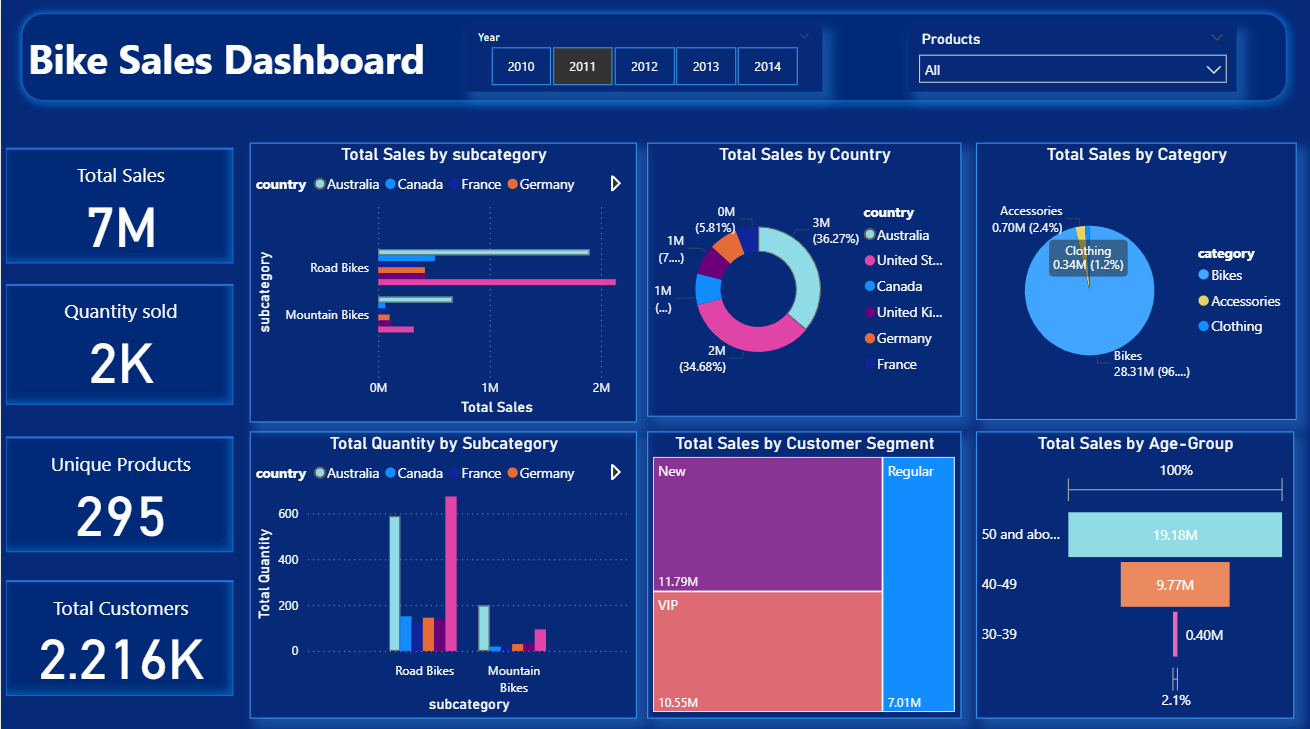

This screenshot's page, from the dashboard's own definition file:
{"tool":"powerbi","page":{"name":"Page 1","canvas":[1280,720],"ordinal":0},"visuals":[{"type":"shape","title":"Bike SalesDashborad","box":[11.2,5,1252.5,103.8],"z":0},{"type":"cardVisual","fields":{"Data":["Sum(gold fact_sales.sales_amount)"]},"box":[0,140,232.5,123.8],"z":1000},{"type":"cardVisual","fields":{"Data":["Sum(gold fact_sales.quantity)"]},"box":[0,273.8,232.5,128.8],"z":2000},{"type":"cardVisual","fields":{"Data":["Count(gold fact_sales.customer_key)"]},"box":[0,562.5,232.5,123.8],"z":3000},{"type":"cardVisual","fields":{"Data":["Count(gold dim_products.product_id)"]},"box":[0,422.5,232.5,123.8],"z":4000},{"type":"donutChart","title":"Total Sales by Country","fields":{"Category":["gold dim_customers.country"],"Y":["Sum(gold fact_sales.sales_amount)"]},"box":[630,140,306.2,267.5],"z":5000},{"type":"clusteredColumnChart","title":"Total Quantity by Subcategory","fields":{"Category":["gold dim_products.subcategory"],"Series":["gold dim_customers.country"],"Y":["Sum(gold fact_sales.quantity)"]},"box":[242.5,422.5,377.5,280],"z":6000},{"type":"pieChart","title":"Total Sales by Category","fields":{"Category":["gold report_products.category"],"Y":["Sum(gold report_products.total_sales)"]},"box":[951.2,140,312.5,270],"z":7000},{"type":"funnel","title":"Total Sales by Age-Group","fields":{"Category":["gold report_customers.age_group"],"Y":["Sum(gold report_customers.total_sales)"]},"box":[951.2,422.5,310,280],"z":8000},{"type":"treemap","title":"Total Sales by Customer Segment","fields":{"Group":["gold report_customers.customer_segment"],"Values":["Sum(gold report_customers.total_sales)"]},"box":[630,422.5,306.2,280],"z":9000},{"type":"slicer","title":"Products","fields":{"Values":["gold dim_products.product_name"]},"box":[885,25,320,65],"z":10000},{"type":"slicer","fields":{"Values":["gold fact_sales.order_date.Variation.Date Hierarchy.Year"]},"box":[452.5,25,348.8,65],"z":11000},{"type":"clusteredBarChart","title":"Total Sales by subcategory","fields":{"Category":["gold dim_products.subcategory"],"Y":["Sum(gold fact_sales.sales_amount)"],"Series":["gold dim_customers.country"]},"box":[242.5,140,377.5,272.5],"z":12000}]}

Visuals, with their boxes in screenshot pixels (x1, y1, x2, y2), scaled from the page's 1280x720 canvas onto the 1310x729 screenshot:
"Bike SalesDashborad" shape: (11,5,1293,110)
cardVisual - Sum(gold fact_sales.sales_amount): (0,142,238,267)
cardVisual - Sum(gold fact_sales.quantity): (0,277,238,408)
cardVisual - Count(gold fact_sales.customer_key): (0,570,238,695)
cardVisual - Count(gold dim_products.product_id): (0,428,238,553)
"Total Sales by Country" donutChart: (645,142,958,413)
"Total Quantity by Subcategory" clusteredColumnChart: (248,428,635,711)
"Total Sales by Category" pieChart: (973,142,1293,415)
"Total Sales by Age-Group" funnel: (973,428,1291,711)
"Total Sales by Customer Segment" treemap: (645,428,958,711)
"Products" slicer: (906,25,1233,91)
slicer - gold fact_sales.order_date.Variation.Date Hierarchy.Year: (463,25,820,91)
"Total Sales by subcategory" clusteredBarChart: (248,142,635,418)
